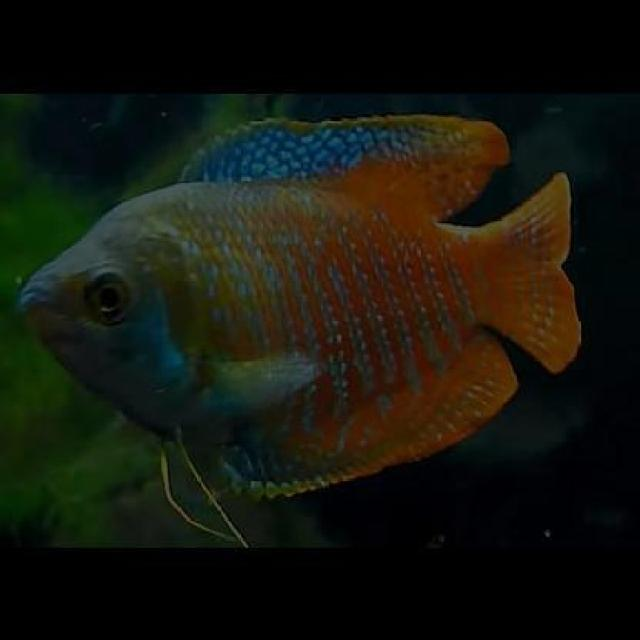Gourami: (19, 107, 582, 496)
